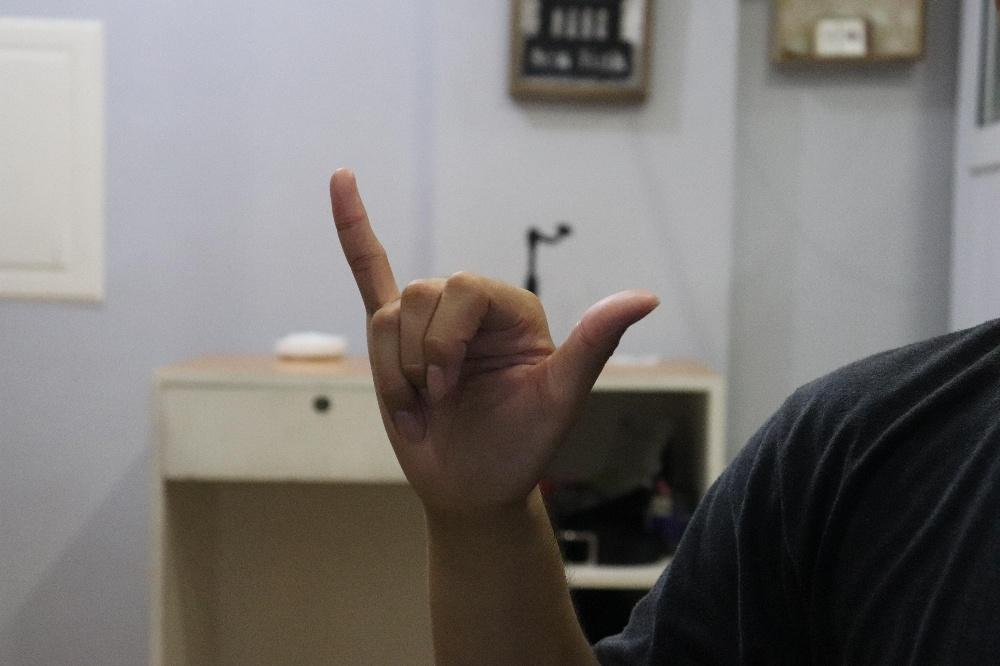y: (328, 165, 660, 513)
